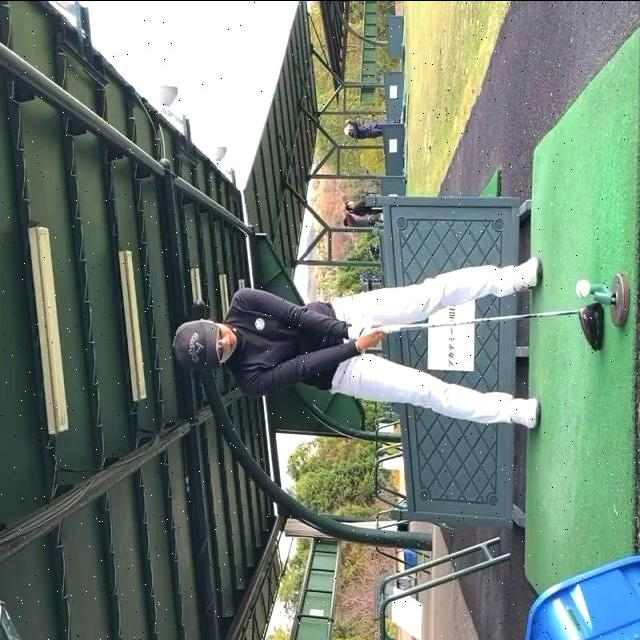golf ball: (576, 279, 589, 298)
golf club-handle: (379, 300, 603, 350)
golf club-head: (578, 299, 602, 350)
